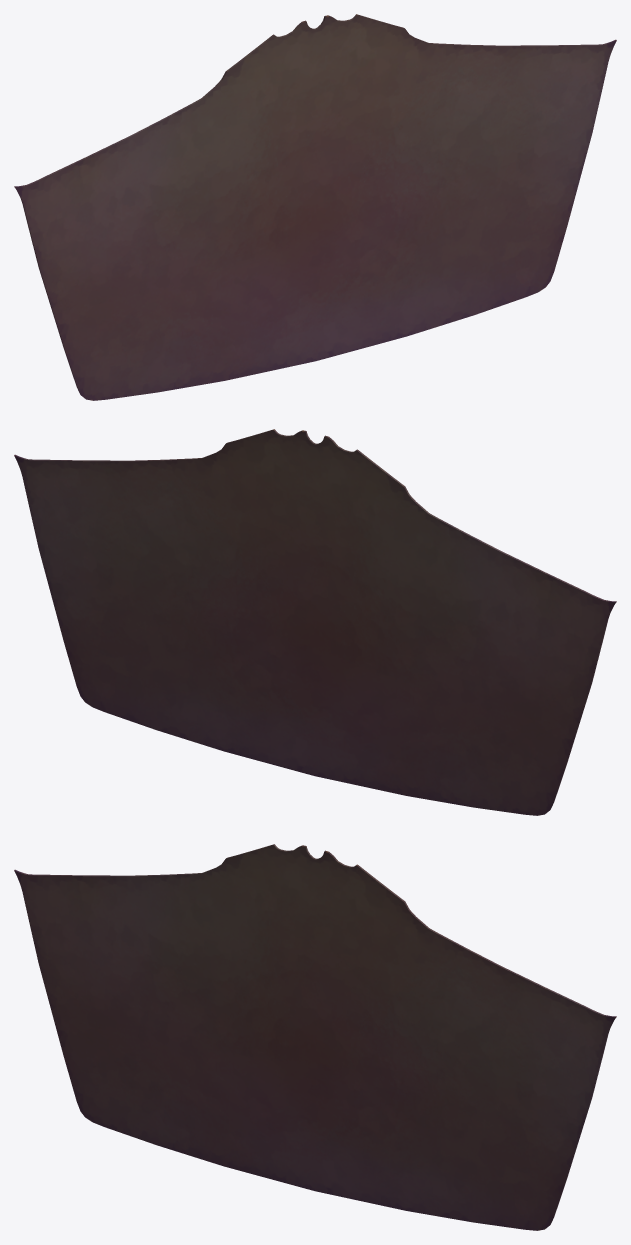
File: BrokenMirror.fbx
The picture shows the model from 3 angles, top to bottom: view 1: azimuth 30°, elevation 25°; view 2: azimuth 150°, elevation 25°; view 3: azimuth 330°, elevation 25°; orthographic projection.
Visible parts, largest first — view 1: Mirror_Broken05, Mirror_Broken01, Mirror_Broken02, Mirror_Broken03, Mirror_Broken04, Mirror_Broken00; view 2: Mirror_Broken05, Mirror_Broken01, Mirror_Broken02, Mirror_Broken03, Mirror_Broken04, Mirror_Broken00; view 3: Mirror_Broken05, Mirror_Broken01, Mirror_Broken02, Mirror_Broken03, Mirror_Broken04, Mirror_Broken00.
Boxes of the visible parts, <box> form: Mirror_Broken05: <box>14,136,295,400</box>; Mirror_Broken01: <box>130,71,318,310</box>; Mirror_Broken02: <box>259,57,462,300</box>; Mirror_Broken03: <box>389,134,591,336</box>; Mirror_Broken04: <box>394,29,616,194</box>; Mirror_Broken00: <box>226,14,406,377</box>; Mirror_Broken05: <box>335,551,616,815</box>; Mirror_Broken01: <box>312,486,500,725</box>; Mirror_Broken02: <box>168,472,371,715</box>; Mirror_Broken03: <box>39,549,241,751</box>; Mirror_Broken04: <box>14,444,236,609</box>; Mirror_Broken00: <box>224,429,404,792</box>; Mirror_Broken05: <box>14,869,293,1169</box>; Mirror_Broken01: <box>130,859,317,1092</box>; Mirror_Broken02: <box>258,929,460,1165</box>; Mirror_Broken03: <box>388,1058,591,1230</box>; Mirror_Broken04: <box>393,901,616,1098</box>; Mirror_Broken00: <box>226,844,405,1210</box>.
Size of the model in its own units: 791 by 430 by 2.55.
